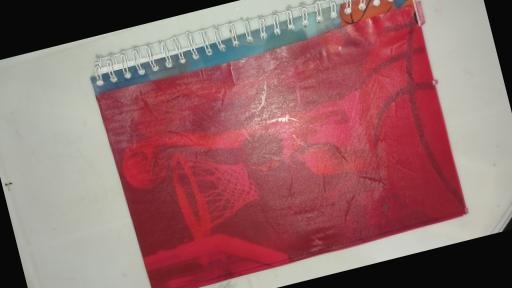notebook: (85, 0, 470, 288)
